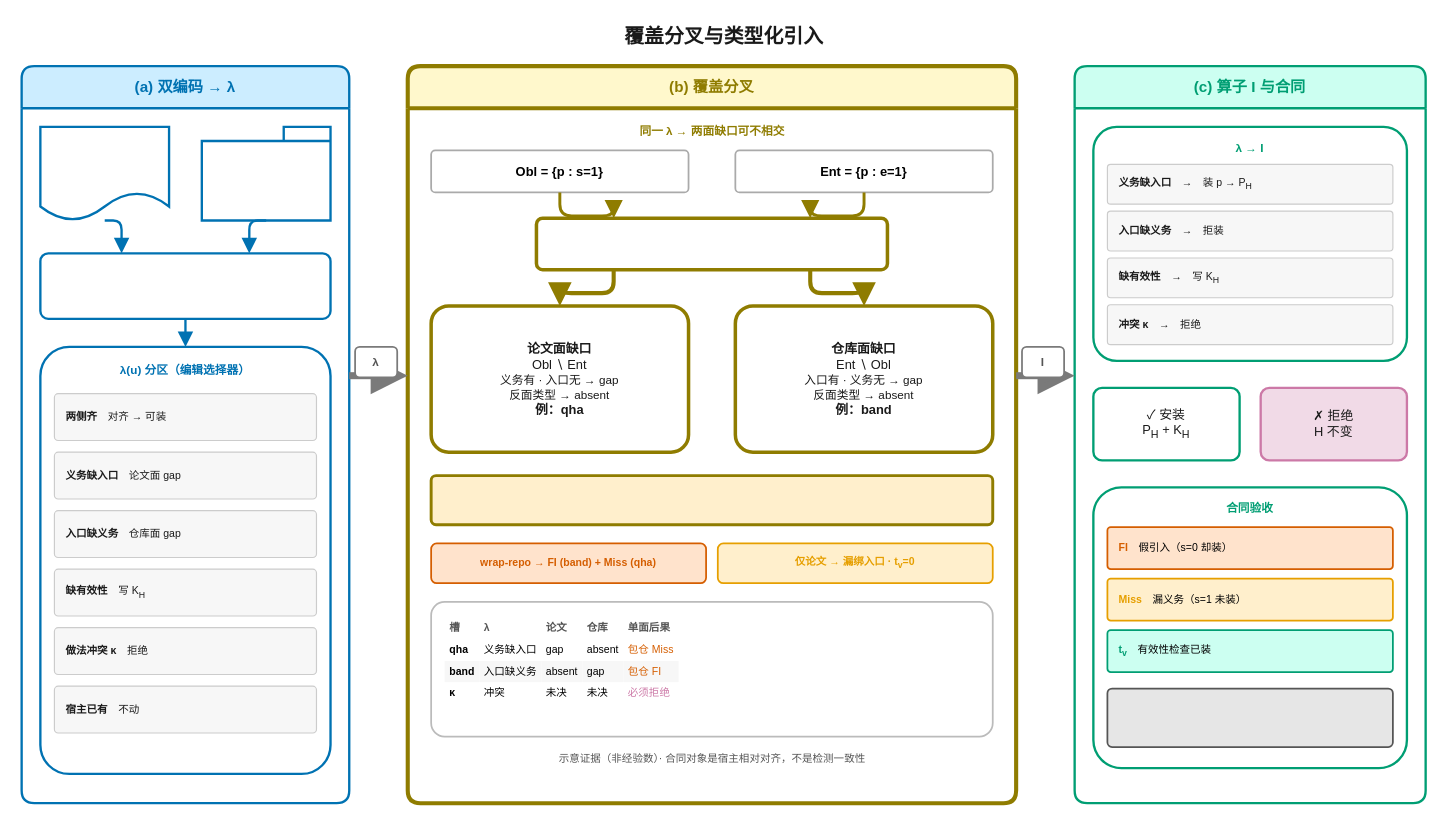
Some shapes in this 1446 by 825 pixel diagram are drawn without their labels. The shapes that lost their labels are listed below. From the top down, each one's centre as x and y in pixels, then its label:
the point at 104,173: W paper s, v p 论文面
the point at 265,173: W repo e, v r 仓库面
the point at 711,243: 同一 λ 投影到宿主两面
the point at 185,285: Id 合并 → 槽位 u u = (p, s, e, v p , v r , κ)
the point at 711,500: 缺口集合可不相交 ⇒ 单面策略在合同上错误
the point at 1249,717: fail-before → green → destroy Fast 未测不报
